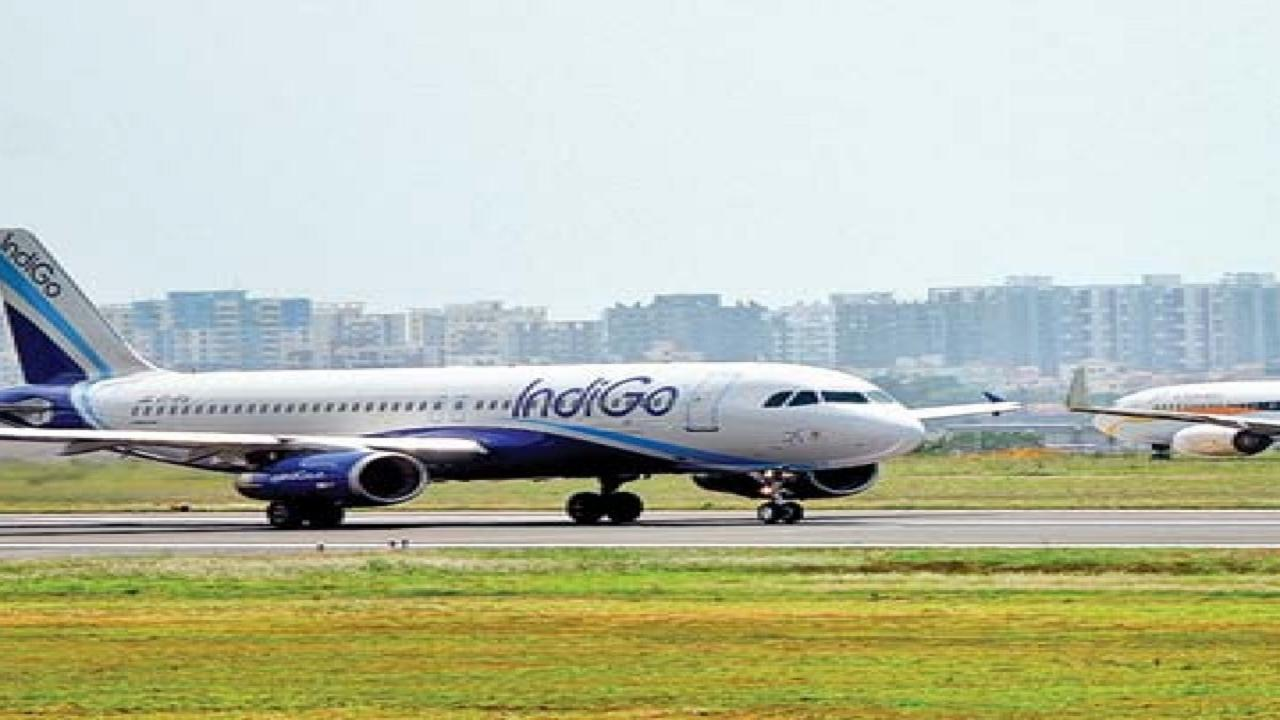Airplane: (0, 214, 1036, 547)
